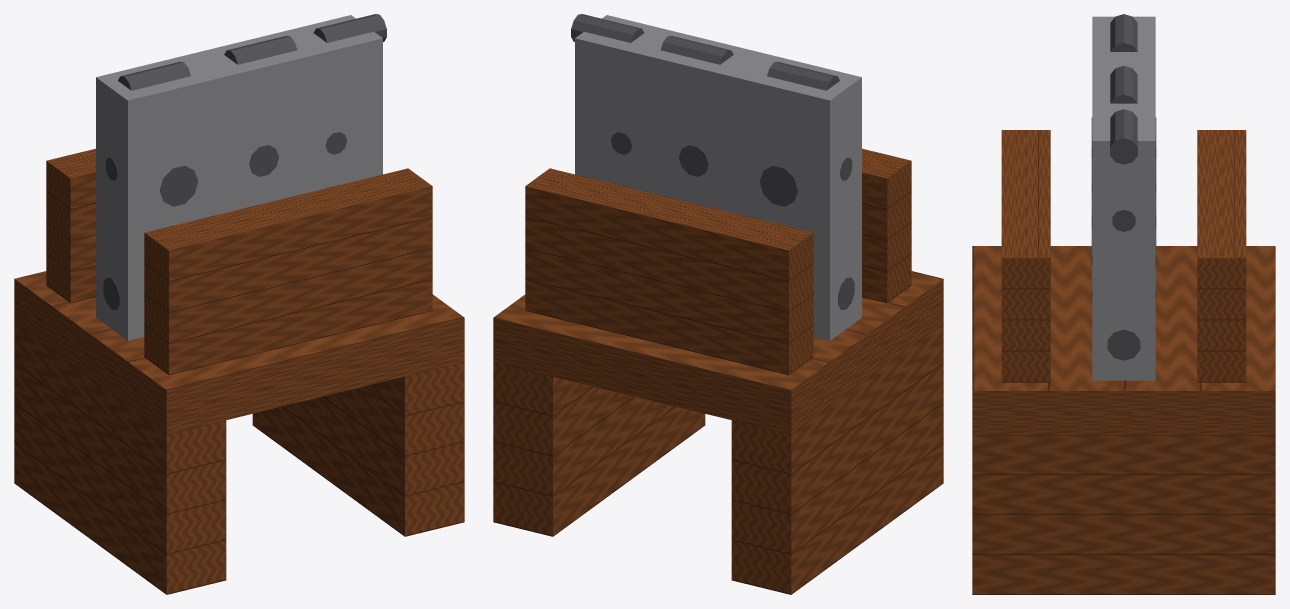
The model's file is blacksmith-forge-and-armoury-blacksmith-forge-and-armo-a369d218__37571.glb.
The picture shows the model from 3 angles, left to right: view 1: azimuth 30°, elevation 25°; view 2: azimuth 150°, elevation 25°; view 3: azimuth 270°, elevation 25°; orthographic projection.
Parts seen in each view (by area): view 1: blacksmith-forge-and-armoury-swage-block-on-stand; view 2: blacksmith-forge-and-armoury-swage-block-on-stand; view 3: blacksmith-forge-and-armoury-swage-block-on-stand.
Part boxes in pixels (<box>): blacksmith-forge-and-armoury-swage-block-on-stand: <box>14,14,464,594</box>; blacksmith-forge-and-armoury-swage-block-on-stand: <box>493,14,943,594</box>; blacksmith-forge-and-armoury-swage-block-on-stand: <box>972,14,1275,594</box>.
Size of the model in its own units: 0.7 by 1.02 by 0.62.
3 materials, 1 textured.
